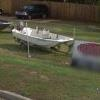Boat: (8, 18, 75, 58)
